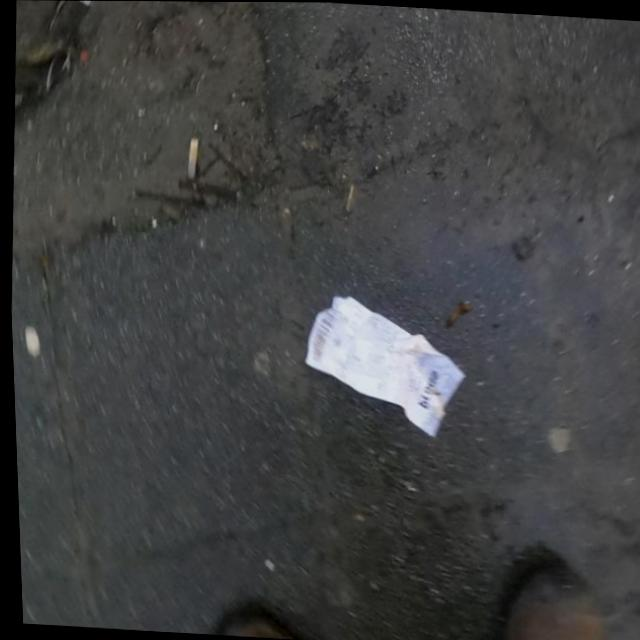Paper: (295, 290, 472, 443)
